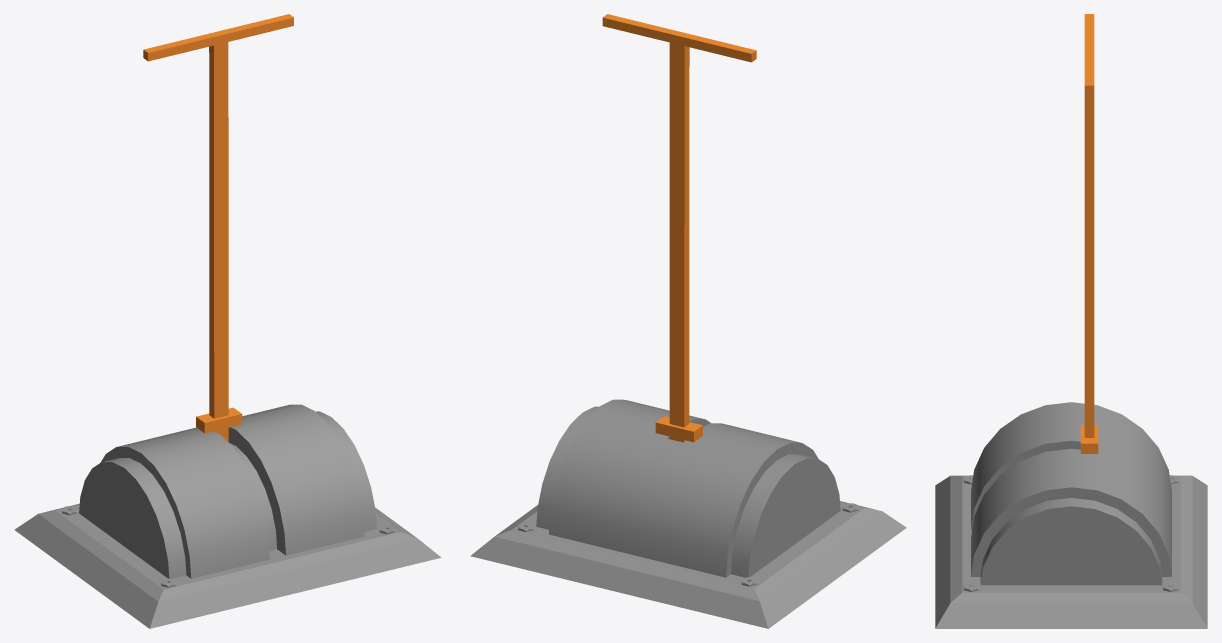
Rendered from P_Lever.fbx.
3 views of the same model, side by side, from view 1: azimuth 30°, elevation 25°; view 2: azimuth 150°, elevation 25°; view 3: azimuth 270°, elevation 25° (orthographic). The views are drawn at different scales.
Visible parts, largest first — view 1: P_BaseLever, P_Lever; view 2: P_BaseLever, P_Lever; view 3: P_BaseLever, P_Lever.
Boxes of the visible parts, x1,y1,x2,y2 form: P_BaseLever: (14, 404, 441, 628); P_Lever: (143, 14, 293, 441); P_BaseLever: (470, 399, 906, 628); P_Lever: (602, 14, 756, 442); P_BaseLever: (935, 402, 1207, 628); P_Lever: (1080, 14, 1098, 453).
Bounding box in the file's own units: 62.87 × 104 × 50.48.
